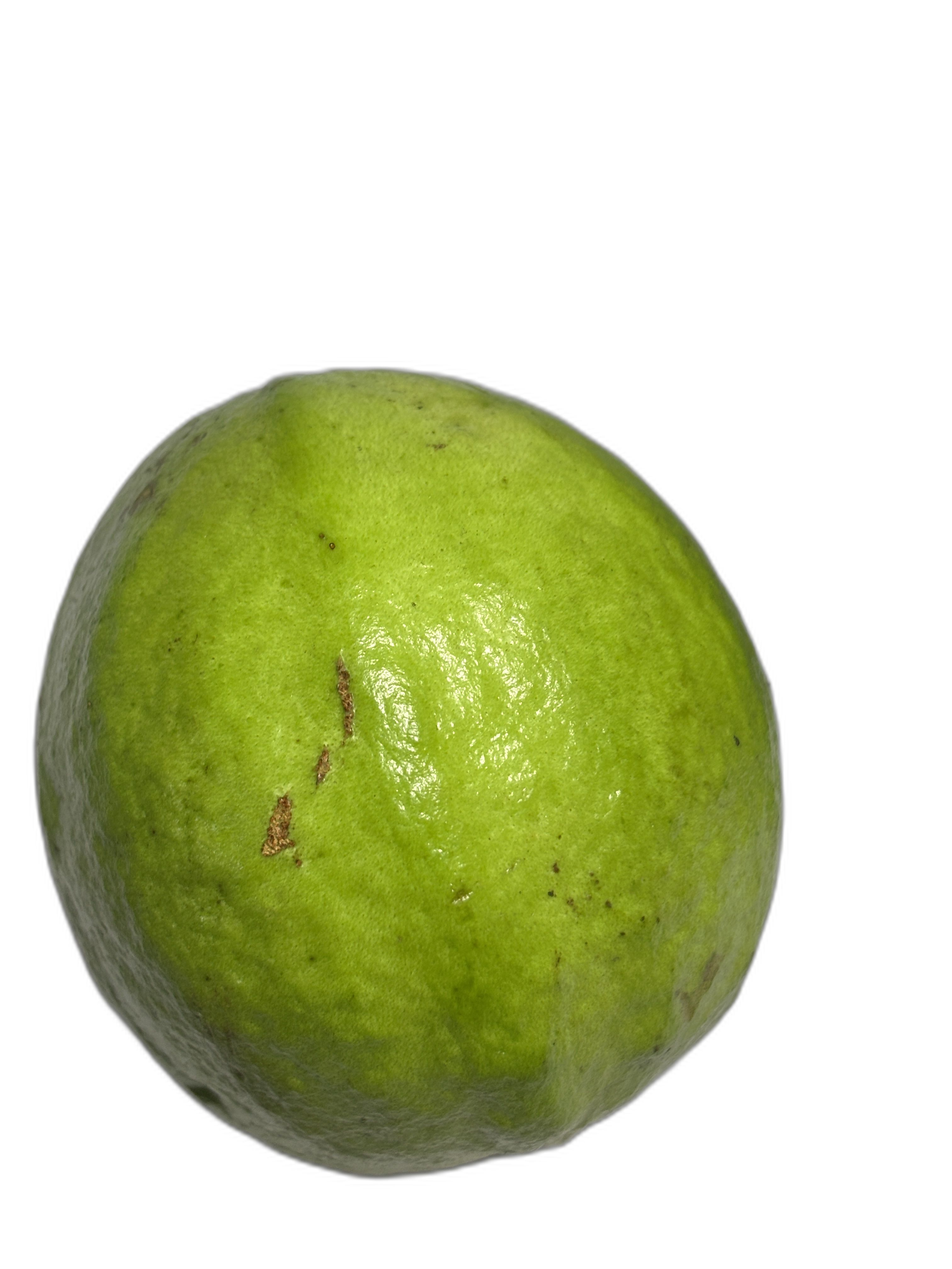guava: (92, 143, 767, 1216)
